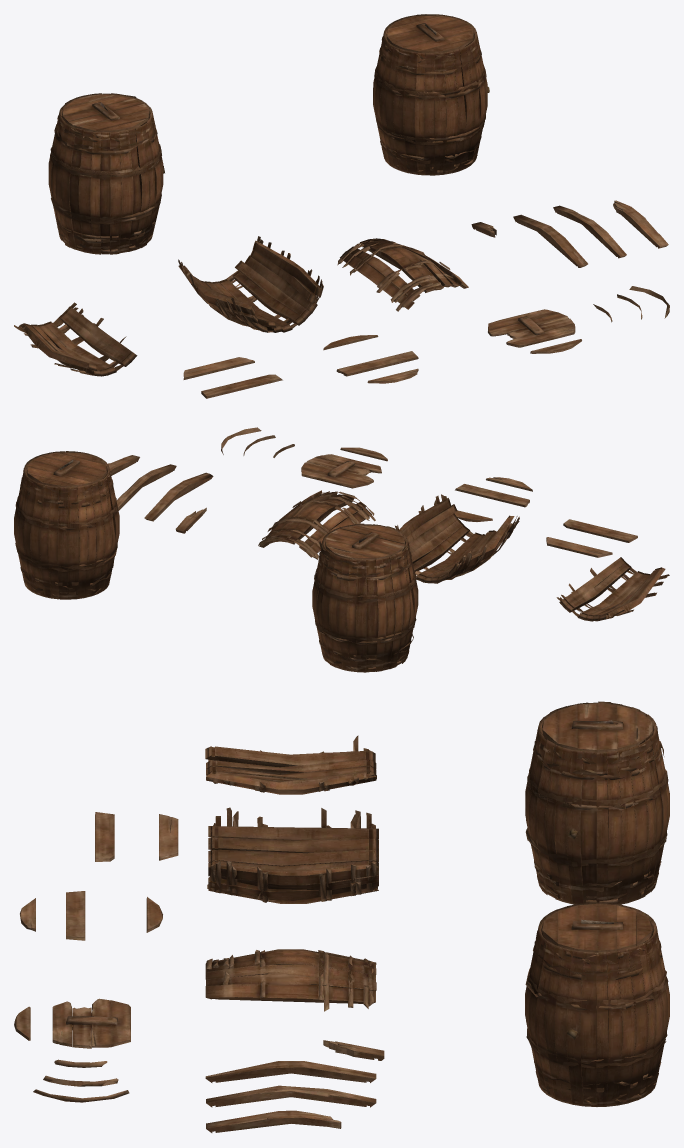
The model's file is wooden_barrels_01.glb.
3 views of the same model, one above another, from view 1: azimuth 30°, elevation 25°; view 2: azimuth 150°, elevation 25°; view 3: azimuth 270°, elevation 25° (orthographic). The views are drawn at different scales.
Parts seen in each view (by area): view 1: wooden_barrels_01_barrel02, wooden_barrels_01_barrel01, wooden_barrels_01_piece01, wooden_barrels_01_piece03, wooden_barrels_01_piece02, wooden_barrels_01_piece08, wooden_barrels_01_piece04, wooden_barrels_01_piece05, wooden_barrels_01_piece06, wooden_barrels_01_piece11, wooden_barrels_01_piece14, wooden_barrels_01_piece13; view 2: wooden_barrels_01_barrel02, wooden_barrels_01_barrel01, wooden_barrels_01_piece01, wooden_barrels_01_piece03, wooden_barrels_01_piece02, wooden_barrels_01_piece08, wooden_barrels_01_piece04, wooden_barrels_01_piece14, wooden_barrels_01_piece05, wooden_barrels_01_piece11, wooden_barrels_01_piece13; view 3: wooden_barrels_01_barrel01, wooden_barrels_01_barrel02, wooden_barrels_01_piece01, wooden_barrels_01_piece03, wooden_barrels_01_piece02, wooden_barrels_01_piece08, wooden_barrels_01_piece04, wooden_barrels_01_piece05, wooden_barrels_01_piece06, wooden_barrels_01_piece11, wooden_barrels_01_piece14, wooden_barrels_01_piece13 (+1 smaller).
Part boxes in pixels (left/top/right/bottom): wooden_barrels_01_barrel02: left=48, top=93, right=164, bottom=254; wooden_barrels_01_barrel01: left=373, top=14, right=489, bottom=175; wooden_barrels_01_piece01: left=178, top=236, right=323, bottom=332; wooden_barrels_01_piece03: left=337, top=238, right=468, bottom=311; wooden_barrels_01_piece02: left=14, top=302, right=137, bottom=376; wooden_barrels_01_piece08: left=488, top=309, right=575, bottom=347; wooden_barrels_01_piece04: left=513, top=214, right=587, bottom=267; wooden_barrels_01_piece05: left=553, top=205, right=626, bottom=258; wooden_barrels_01_piece06: left=613, top=200, right=668, bottom=248; wooden_barrels_01_piece11: left=336, top=351, right=418, bottom=376; wooden_barrels_01_piece14: left=201, top=374, right=282, bottom=398; wooden_barrels_01_piece13: left=183, top=357, right=254, bottom=379; wooden_barrels_01_barrel02: left=312, top=523, right=418, bottom=672; wooden_barrels_01_barrel01: left=14, top=451, right=119, bottom=599; wooden_barrels_01_piece01: left=395, top=494, right=519, bottom=583; wooden_barrels_01_piece03: left=258, top=490, right=375, bottom=559; wooden_barrels_01_piece02: left=556, top=557, right=669, bottom=621; wooden_barrels_01_piece08: left=301, top=454, right=381, bottom=488; wooden_barrels_01_piece04: left=144, top=472, right=213, bottom=521; wooden_barrels_01_piece14: left=563, top=519, right=637, bottom=542; wooden_barrels_01_piece05: left=116, top=464, right=176, bottom=510; wooden_barrels_01_piece11: left=455, top=484, right=529, bottom=507; wooden_barrels_01_piece13: left=546, top=537, right=612, bottom=557; wooden_barrels_01_barrel01: left=525, top=902, right=669, bottom=1106; wooden_barrels_01_barrel02: left=525, top=701, right=669, bottom=904; wooden_barrels_01_piece01: left=207, top=807, right=378, bottom=903; wooden_barrels_01_piece03: left=205, top=949, right=376, bottom=1011; wooden_barrels_01_piece02: left=205, top=735, right=376, bottom=794; wooden_barrels_01_piece08: left=52, top=998, right=130, bottom=1048; wooden_barrels_01_piece04: left=205, top=1061, right=376, bottom=1082; wooden_barrels_01_piece05: left=206, top=1085, right=376, bottom=1107; wooden_barrels_01_piece06: left=206, top=1110, right=341, bottom=1132; wooden_barrels_01_piece11: left=66, top=891, right=85, bottom=940; wooden_barrels_01_piece14: left=95, top=812, right=114, bottom=861; wooden_barrels_01_piece13: left=159, top=814, right=178, bottom=860.
Size of the model in its own units: 4.44 by 0.9522 by 3.34.
3 materials, 3 textured.
